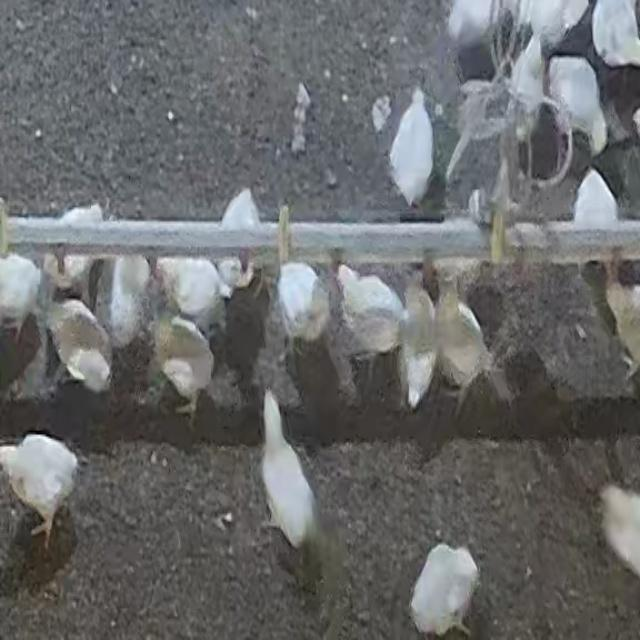chicken: (0, 430, 80, 536), (255, 391, 310, 543), (430, 272, 491, 396), (152, 311, 216, 421), (409, 542, 479, 638), (49, 296, 112, 395), (336, 266, 402, 356), (548, 53, 604, 156), (387, 88, 434, 208), (156, 256, 230, 331), (398, 278, 438, 412), (46, 203, 104, 295), (274, 261, 330, 345), (100, 254, 150, 347), (219, 188, 265, 288), (600, 486, 640, 592), (508, 34, 546, 118)
